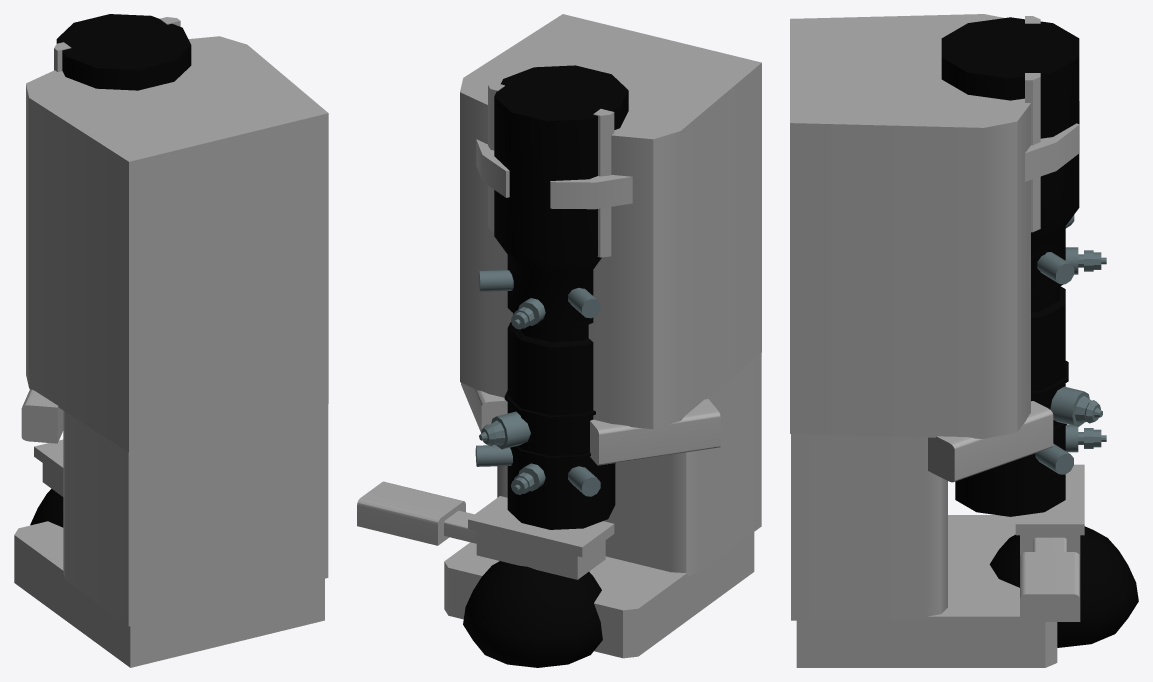
Rendered from Electron microscope.fbx.
3 views of the same model, side by side, from view 1: azimuth 30°, elevation 25°; view 2: azimuth 150°, elevation 25°; view 3: azimuth 270°, elevation 25° (orthographic). The views are drawn at different scales.
Parts seen in each view (by area): view 1: Electron_microscope; view 2: Electron_microscope; view 3: Electron_microscope.
Part boxes in pixels (bbox=[...]): Electron_microscope: bbox=[14, 14, 328, 667]; Electron_microscope: bbox=[357, 14, 761, 667]; Electron_microscope: bbox=[790, 14, 1138, 667].
Size of the model in its own units: 263 by 442 by 244.
